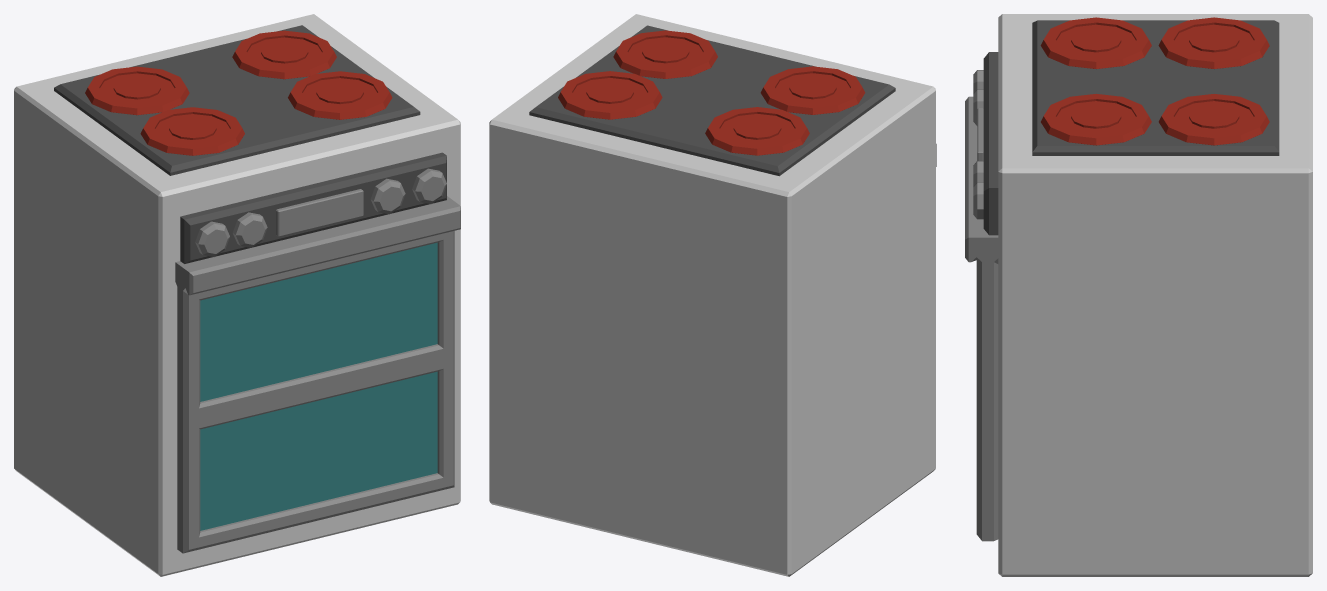
File: Oven.gltf
The picture shows the model from 3 angles, left to right: view 1: azimuth 30°, elevation 25°; view 2: azimuth 150°, elevation 25°; view 3: azimuth 270°, elevation 25°; orthographic projection. The views are drawn at different scales.
Parts seen in each view (by area): view 1: Oven, Oven.001; view 2: Oven; view 3: Oven, Oven.001.
Boxes of the visible parts, left/top/right/bottom form: Oven: left=14, top=14, right=460, bottom=576; Oven.001: left=175, top=196, right=460, bottom=553; Oven: left=489, top=14, right=935, bottom=576; Oven: left=973, top=14, right=1312, bottom=576; Oven.001: left=965, top=96, right=998, bottom=541.
Bounding box in the file's own units: 360 × 452 × 337.
